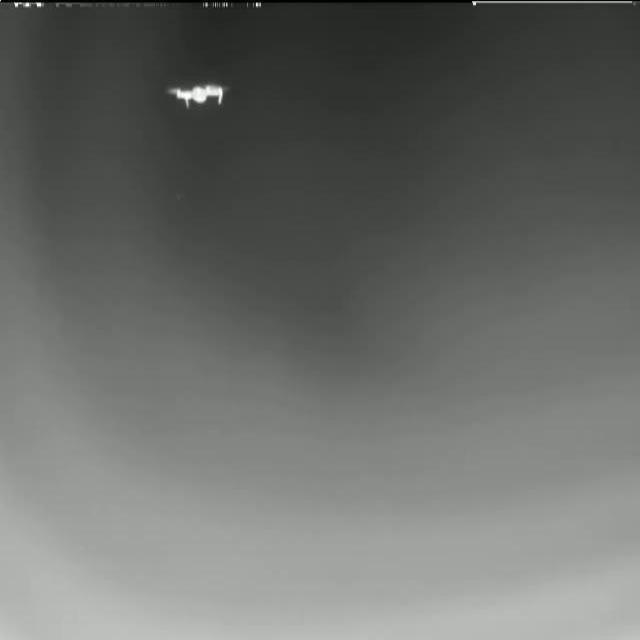DRONE: (167, 80, 227, 110)
